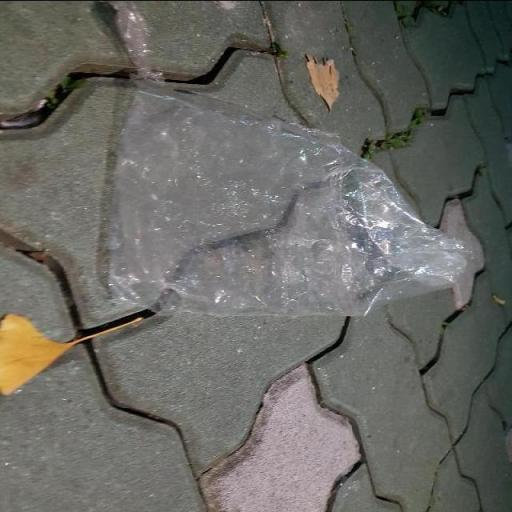plastic-bag: (108, 75, 473, 320)
